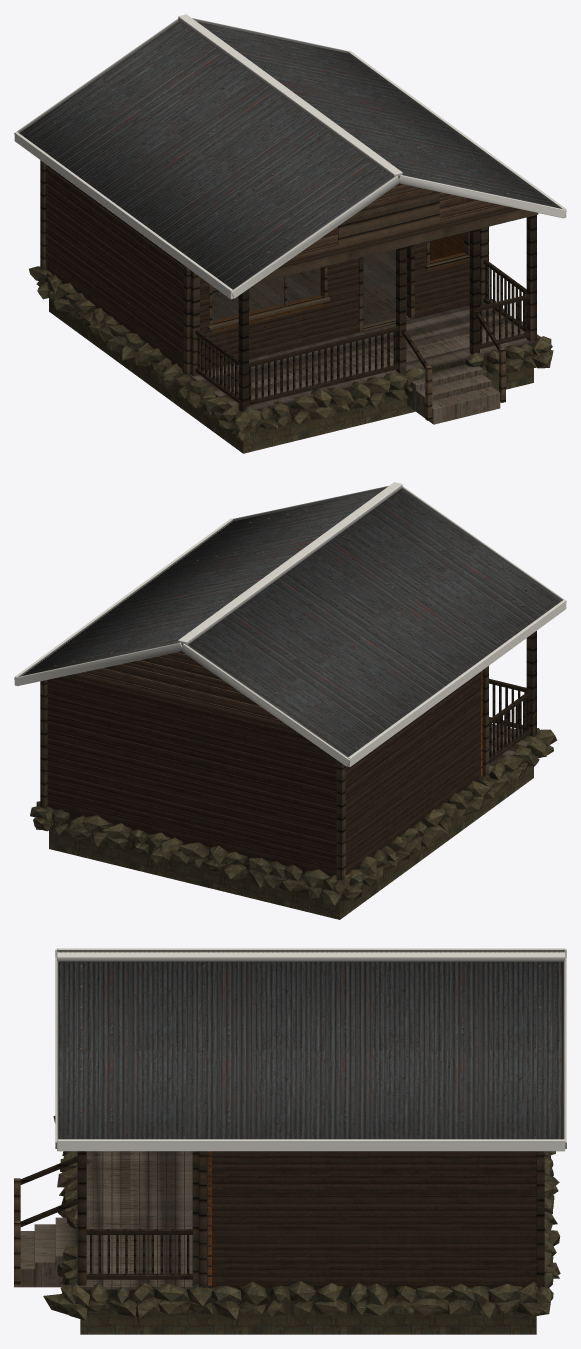
Rendered from store.glb.
3 renders of one model, top to bottom at view 1: azimuth 30°, elevation 25°; view 2: azimuth 150°, elevation 25°; view 3: azimuth 270°, elevation 25°, orthographic. The views are drawn at different scales.
Visible parts, largest first — view 1: roof, siding, dark_wood, stone, floor, trim, inner; view 2: roof, siding, stone, trim, dark_wood, floor; view 3: roof, siding, stone, floor, trim, dark_wood, inner.
Part boxes in pixels (x1=…): roof: x1=19, y1=21, x2=557, y2=289; siding: x1=46, y1=30, x2=527, y2=369; dark_wood: x1=40, y1=160, x2=538, y2=420; stone: x1=29, y1=266, x2=553, y2=453; floor: x1=189, y1=249, x2=535, y2=424; trim: x1=14, y1=14, x2=566, y2=299; inner: x1=212, y1=233, x2=467, y2=332; roof: x1=22, y1=489, x2=560, y2=757; siding: x1=47, y1=498, x2=527, y2=876; stone: x1=30, y1=724, x2=557, y2=919; trim: x1=14, y1=482, x2=566, y2=766; dark_wood: x1=40, y1=631, x2=536, y2=880; floor: x1=488, y1=724, x2=535, y2=774; roof: x1=58, y1=951, x2=563, y2=1139; siding: x1=80, y1=952, x2=540, y2=1285; stone: x1=43, y1=1116, x2=560, y2=1334; floor: x1=14, y1=1151, x2=193, y2=1289; trim: x1=55, y1=948, x2=566, y2=1151; dark_wood: x1=14, y1=1151, x2=544, y2=1287; inner: x1=207, y1=1151, x2=211, y2=1286.
Bounding box in the file's own units: 7.02 × 5.04 × 8.52.
7 materials, 6 textured.
